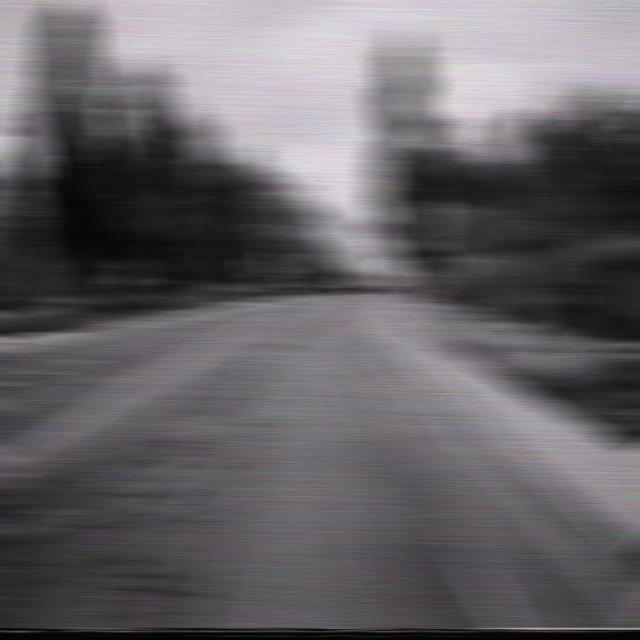speedLimit35: (416, 197, 449, 236)
